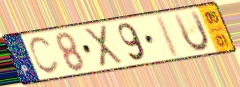8: (54, 30, 87, 73)
9: (117, 22, 146, 63)
C: (28, 35, 61, 76)
I: (155, 13, 182, 60)
U: (171, 8, 211, 54)
X: (81, 24, 126, 70)
